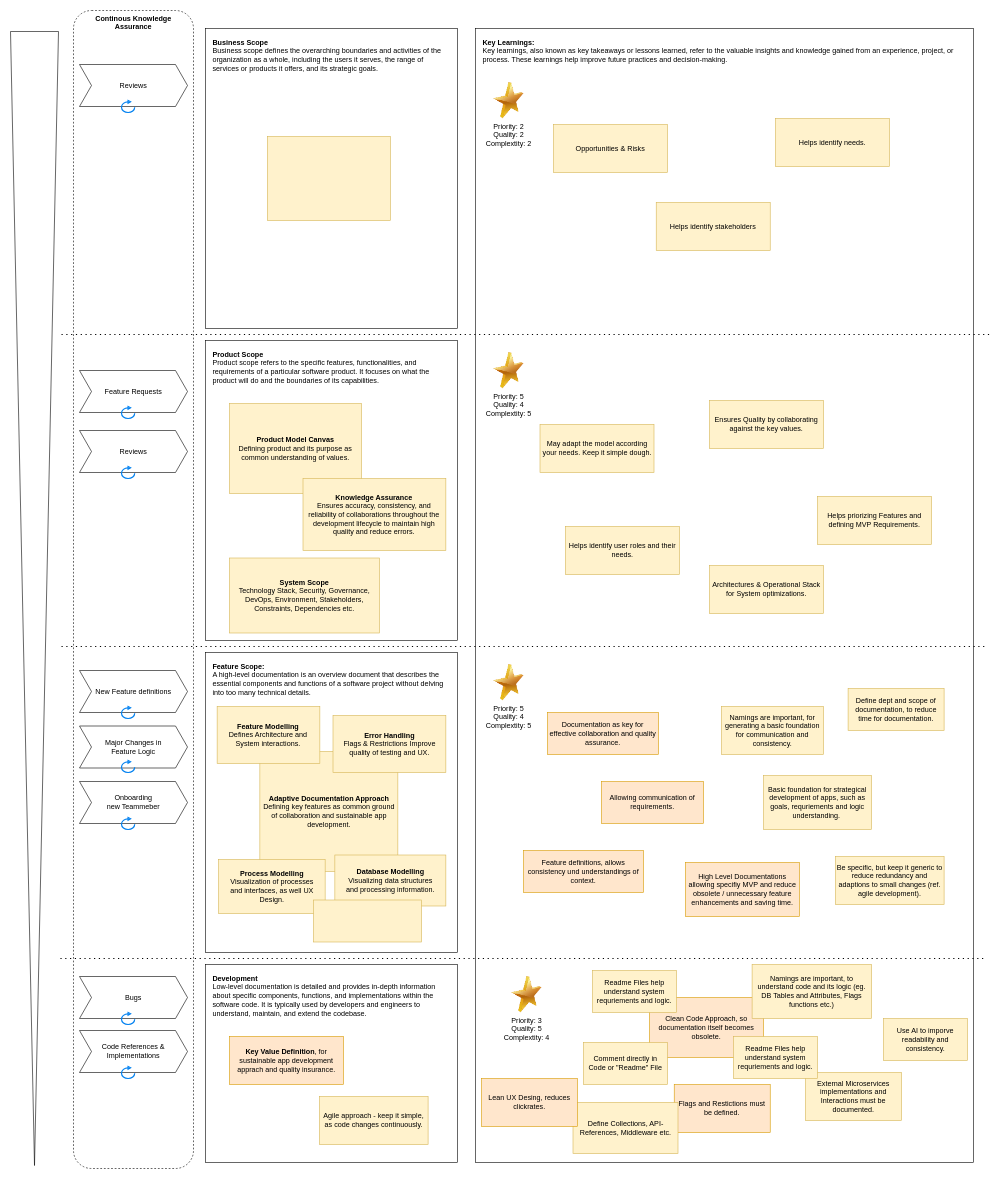
Image size: 1003x1179. Some labels were removed from this diagram. The centre of each missing label's shape, as x and y in pixels:
"Business Model Canvas" belongs at (328,178).
"Data Collections Communication of Data between client and server." belongs at (367,920).
